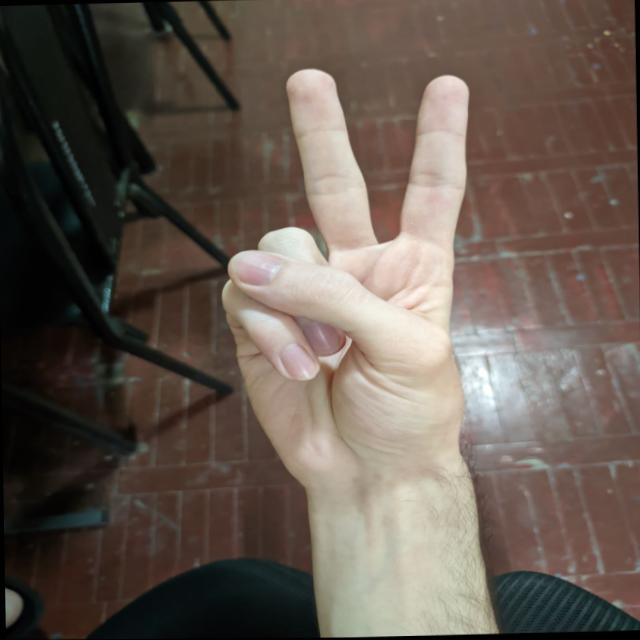k: (170, 50, 474, 439)
